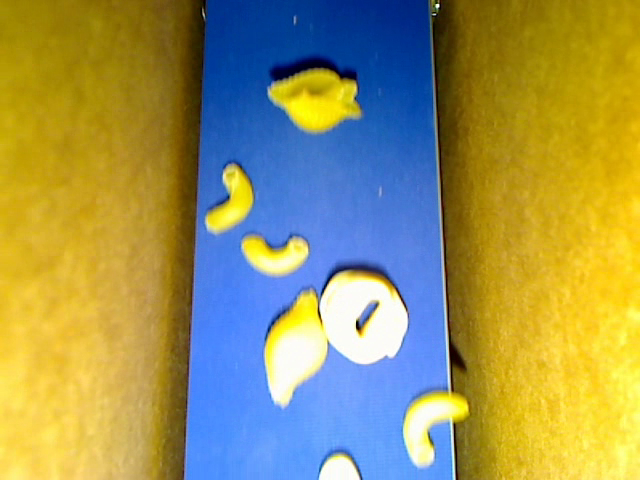elbow: (401, 391, 467, 470), (205, 163, 253, 236), (240, 234, 310, 276), (294, 80, 357, 101)
shell: (263, 286, 328, 409), (266, 68, 361, 132)
tortellini: (318, 269, 408, 365)
